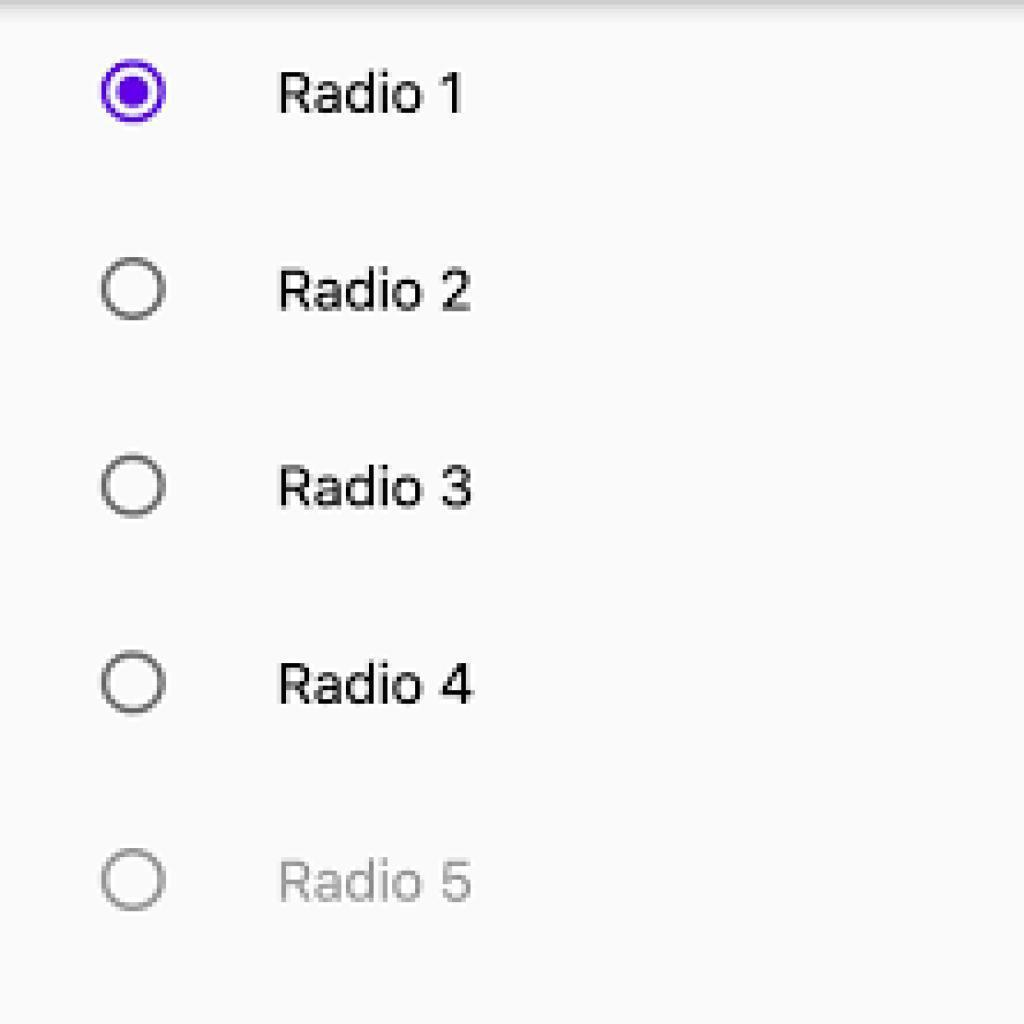label: (274, 259, 480, 320), (276, 457, 475, 519), (274, 850, 478, 910), (273, 653, 480, 710), (273, 63, 466, 120)
radio: (95, 644, 170, 717), (95, 56, 170, 127), (97, 842, 169, 915), (94, 449, 166, 518), (96, 253, 167, 320)
